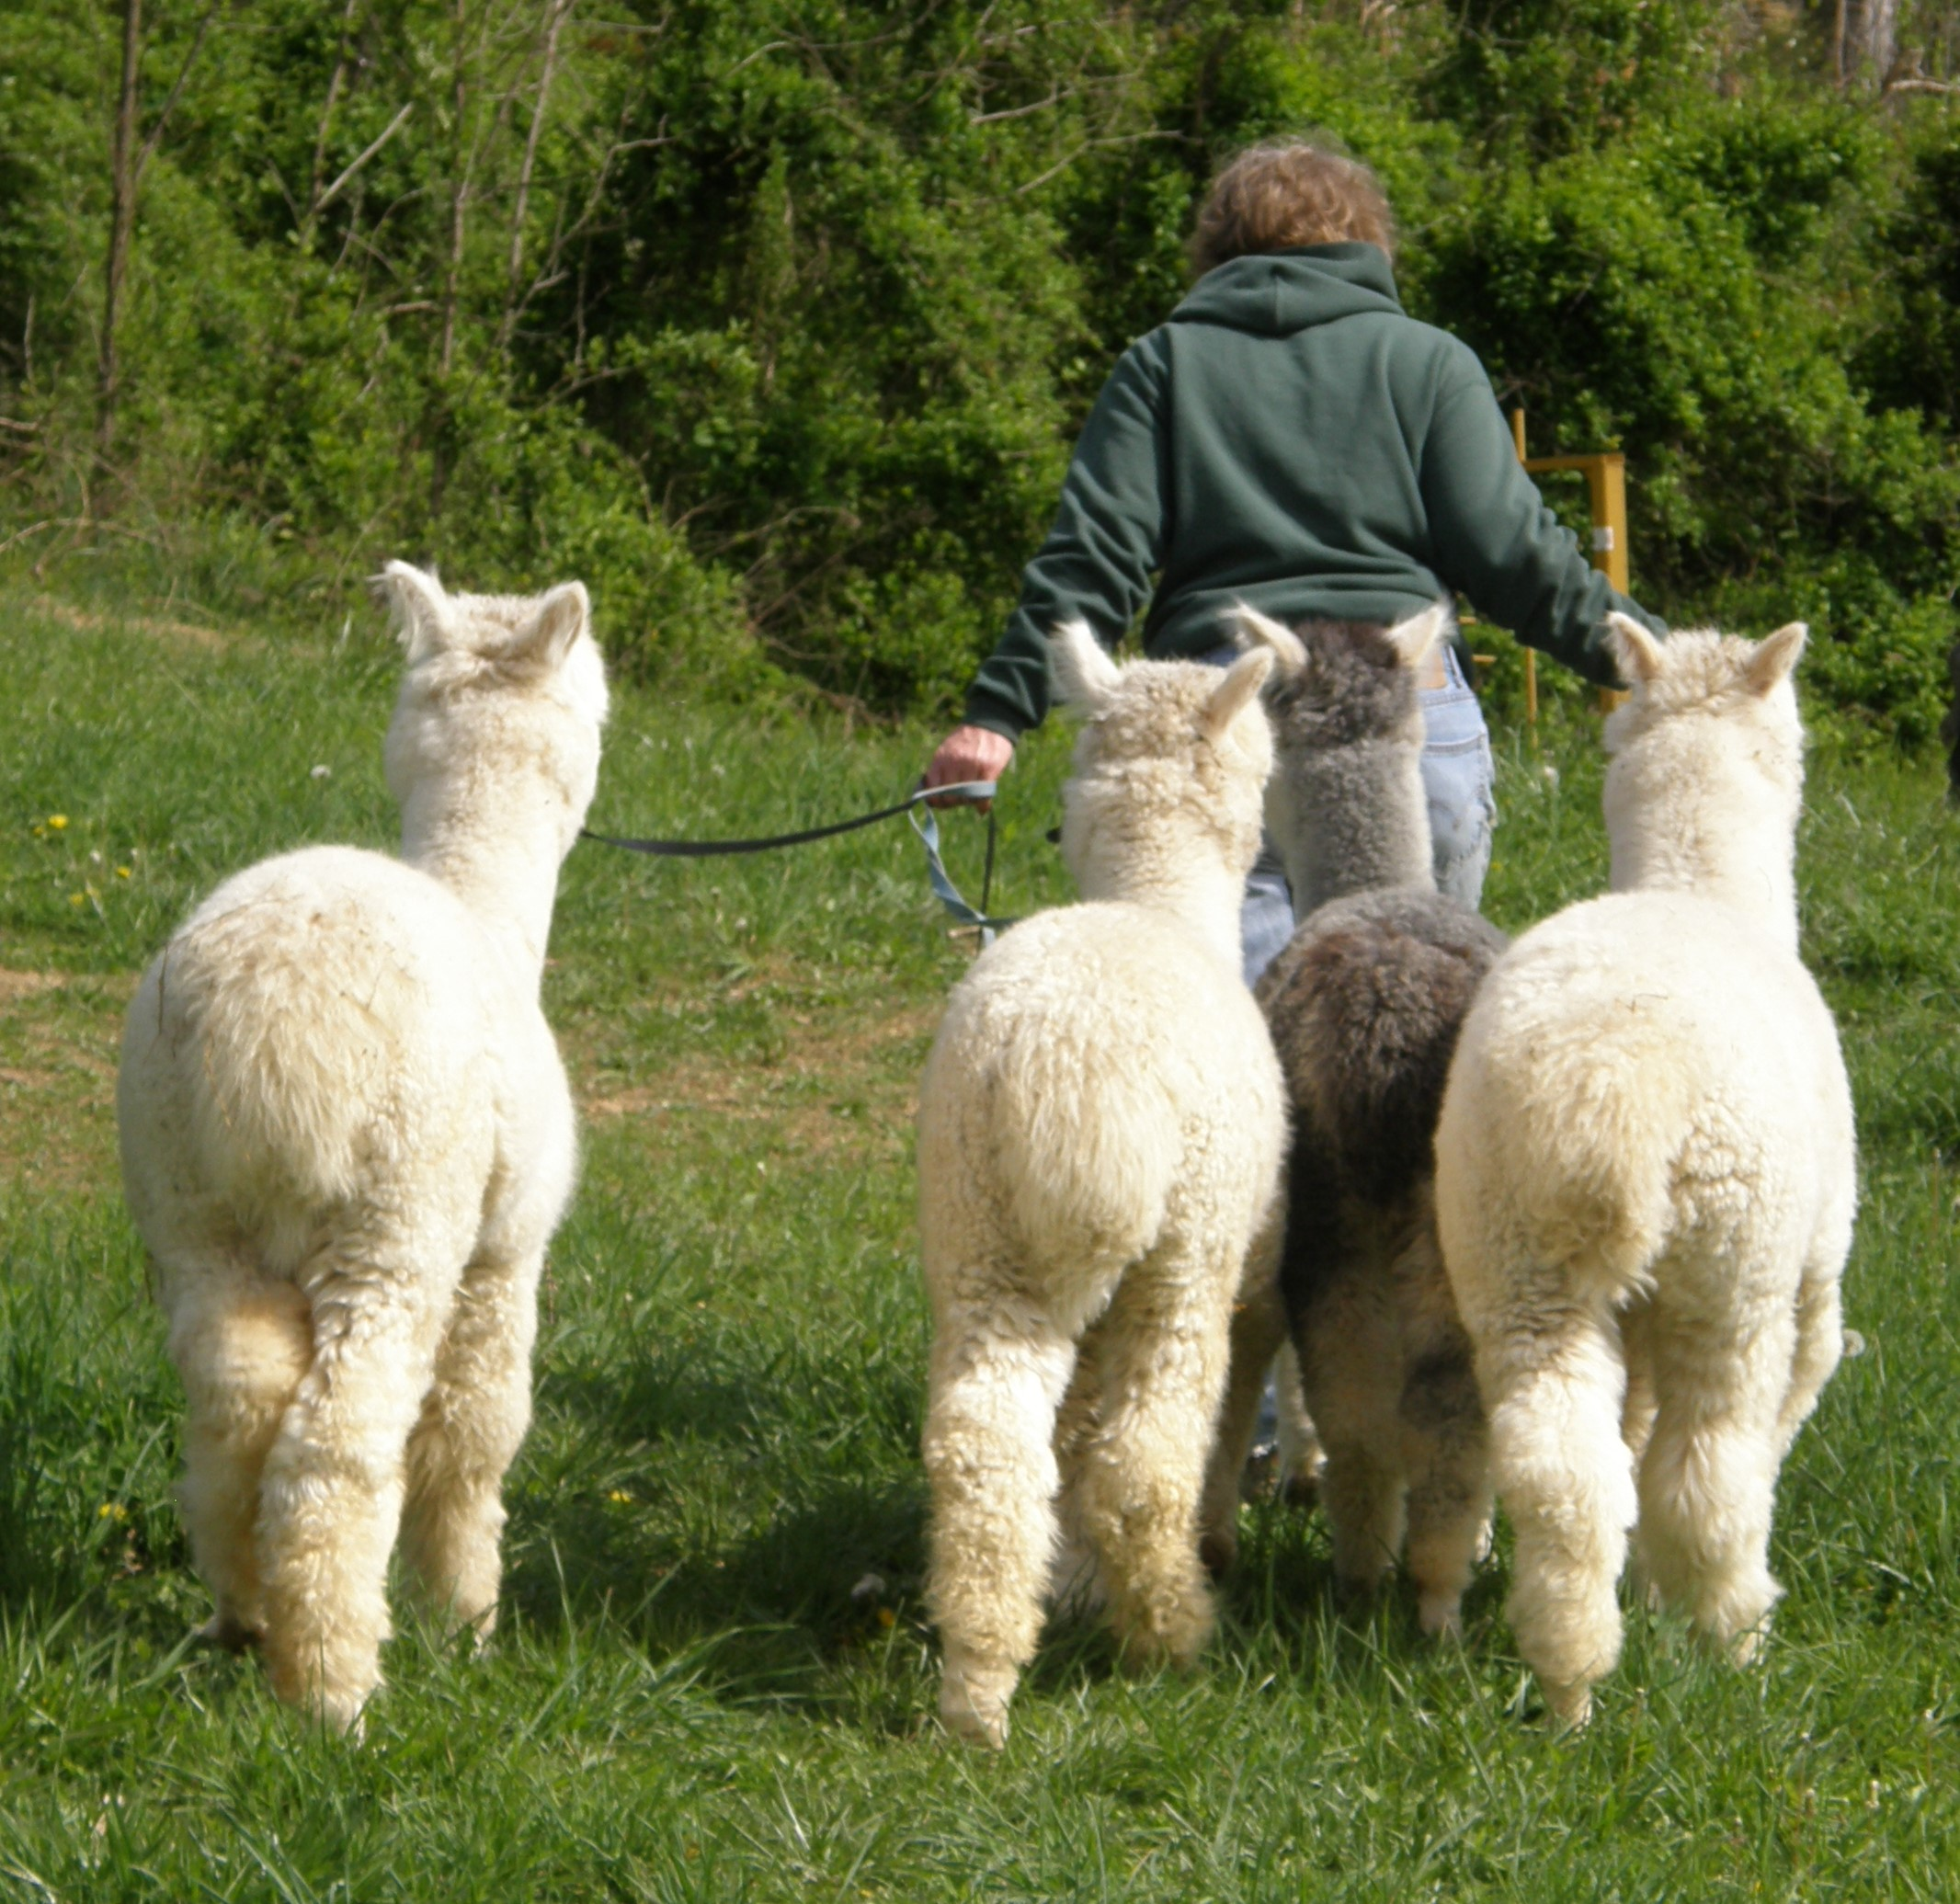alpaca: (117, 558, 611, 1745), (1431, 605, 1857, 1731), (912, 618, 1290, 1748), (1211, 590, 1510, 1643)
